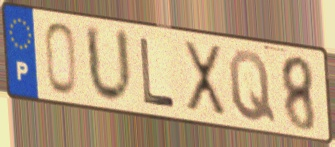0: (42, 20, 82, 100)
8: (279, 54, 318, 133)
L: (137, 35, 178, 111)
Q: (226, 48, 278, 127)
U: (82, 21, 136, 108)
X: (181, 37, 229, 121)
